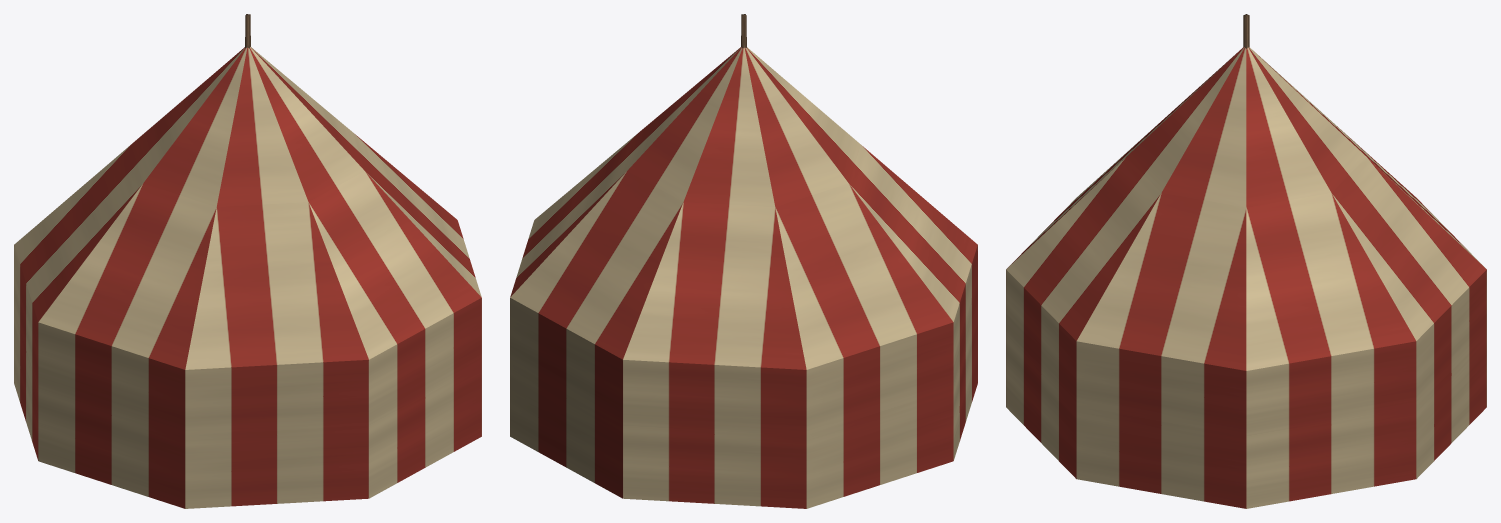
File: Tent_Striped_1_LOD1.gltf
3 renders of one model, left to right at view 1: azimuth 30°, elevation 25°; view 2: azimuth 150°, elevation 25°; view 3: azimuth 270°, elevation 25°, orthographic.
Parts seen in each view (by area): view 1: Tent_Striped_1_LOD1; view 2: Tent_Striped_1_LOD1; view 3: Tent_Striped_1_LOD1.
Boxes of the visible parts, x1=… form: Tent_Striped_1_LOD1: x1=14, y1=14, x2=481, y2=508; Tent_Striped_1_LOD1: x1=510, y1=14, x2=977, y2=508; Tent_Striped_1_LOD1: x1=1006, y1=14, x2=1486, y2=508.
Size of the model in its own units: 6 by 5.4 by 6.
Materials: 2 (2 with a texture image).
